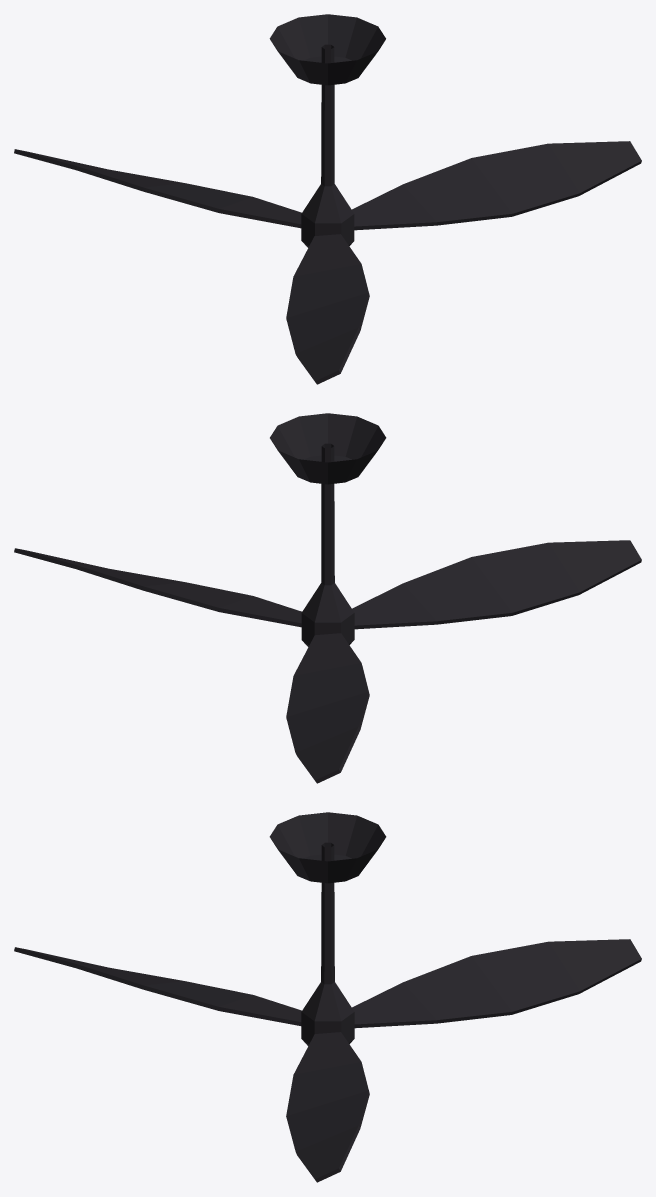
Rendered from Ceiling Fan.fbx.
3 renders of one model, top to bottom at view 1: azimuth 30°, elevation 25°; view 2: azimuth 150°, elevation 25°; view 3: azimuth 270°, elevation 25°, orthographic.
Parts seen in each view (by area): view 1: Ceiling Fan; view 2: Ceiling Fan; view 3: Ceiling Fan.
Boxes of the visible parts, bbox=[...] form: Ceiling Fan: bbox=[14, 14, 641, 384]; Ceiling Fan: bbox=[14, 413, 641, 783]; Ceiling Fan: bbox=[14, 812, 641, 1182].
Size of the model in its own units: 208 by 90.81 by 240.
